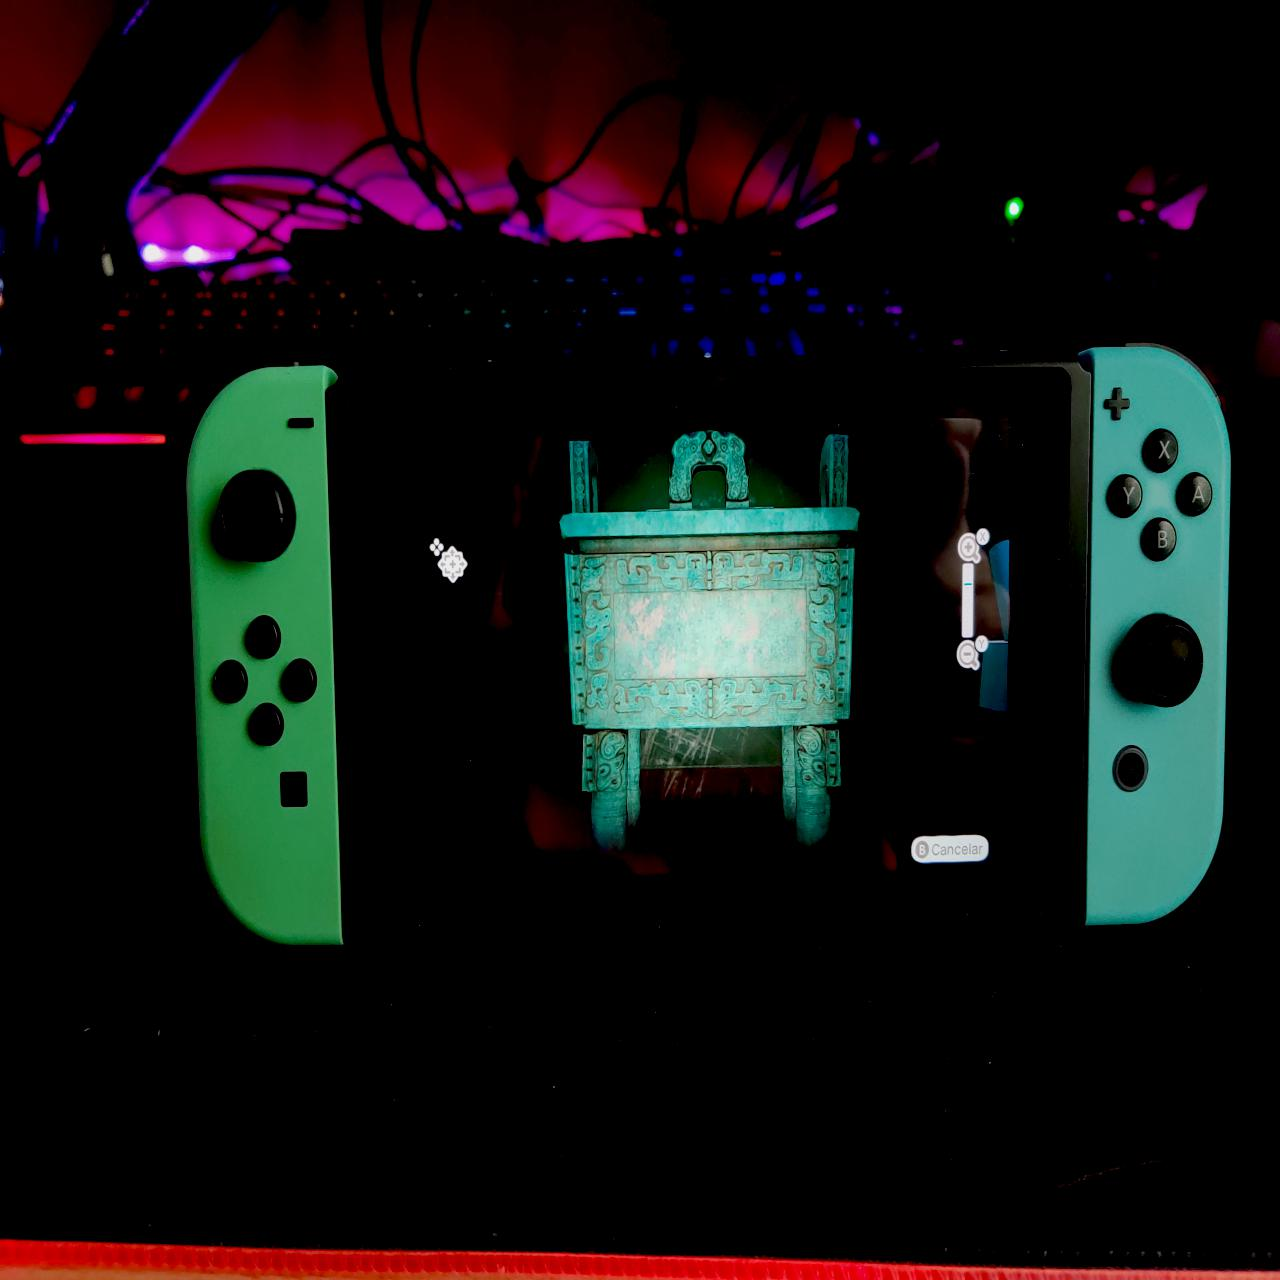HoumuwuDingFake: (556, 433, 865, 856)
